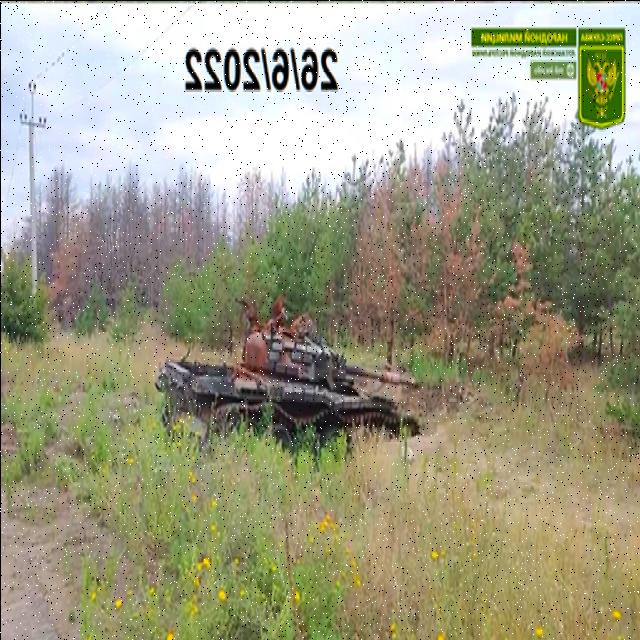TANK: (161, 304, 429, 473)
